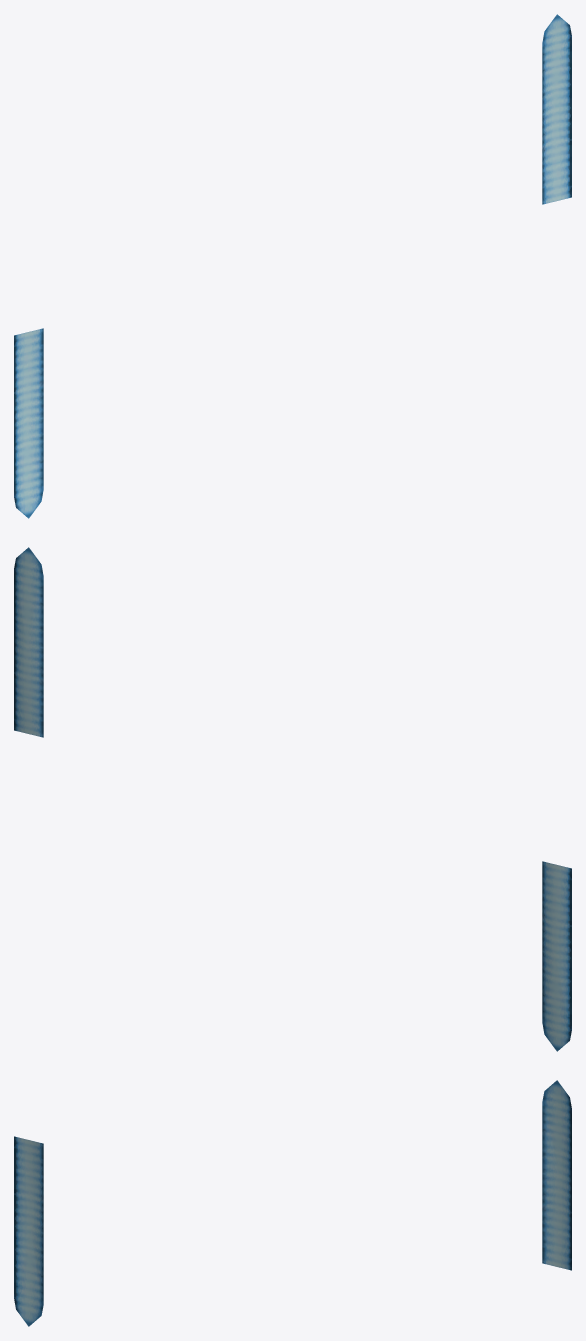
File: xwing_engine_neg_s02_on_l1.fbx
3 renders of one model, top to bottom at view 1: azimuth 30°, elevation 25°; view 2: azimuth 150°, elevation 25°; view 3: azimuth 330°, elevation 25°, orthographic.
Parts seen in each view (by area): view 1: mesh_node; view 2: mesh_node; view 3: mesh_node.
Part boxes in pixels (left/top/right/bottom): mesh_node: left=14, top=14, right=571, bottom=518; mesh_node: left=14, top=547, right=571, bottom=1051; mesh_node: left=14, top=1080, right=571, bottom=1326.
Size of the model in its own units: 3.67 by 2.36 by 0.0227.
